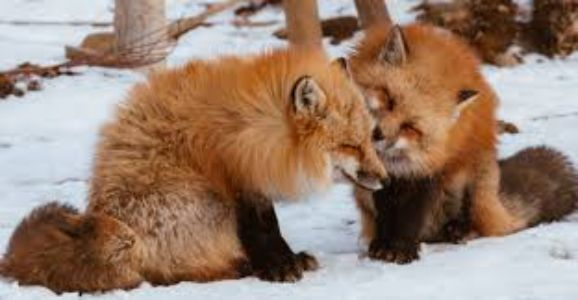fox: (27, 54, 369, 293), (366, 20, 573, 264)
